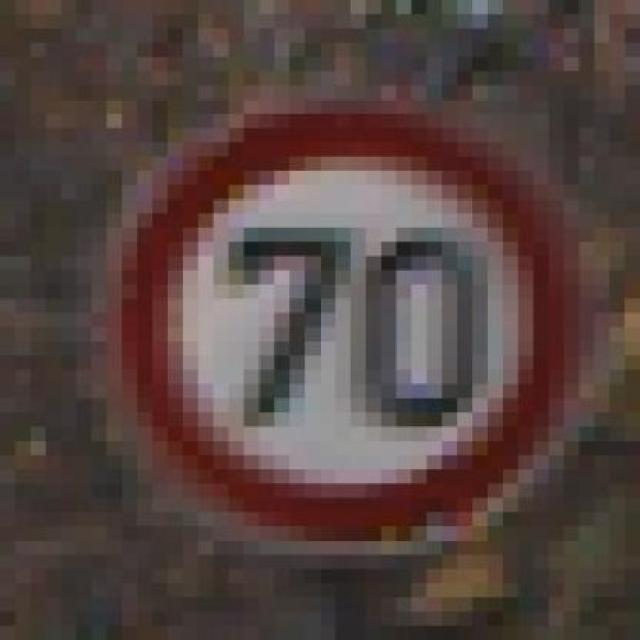forb_speed_over_70: (122, 106, 573, 540)
